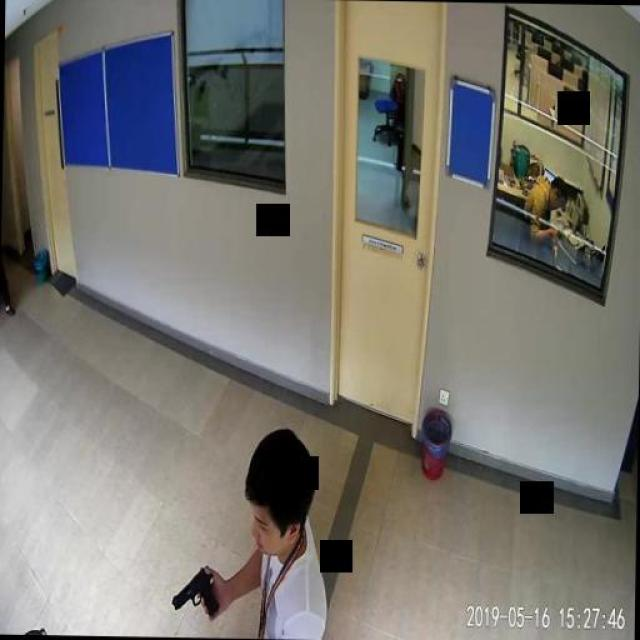gun: (171, 566, 220, 618)
